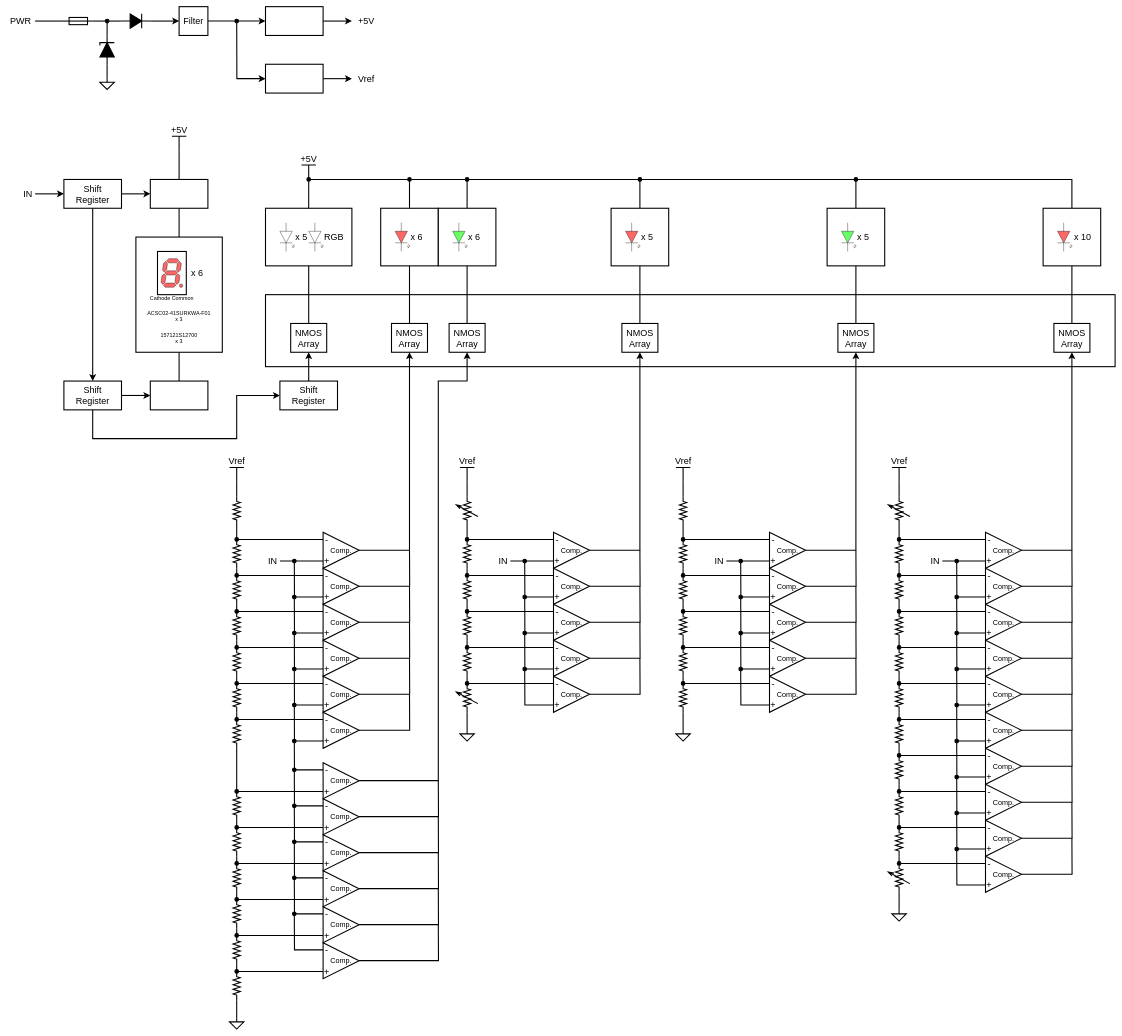
Some shapes in this 1122 by 1036 pixel diagram are drawn without their labels. Here are the shapes that lost their labels. From the top down, the box of each, then its label:
(265, 6, 323, 36): Regulator
(265, 64, 323, 93): Shunt Regulator
(150, 179, 208, 209): 8ch PMOS Array
(265, 294, 1115, 367): 8ch NMOS Array x 5
(150, 380, 208, 410): 8ch NMOS Array
